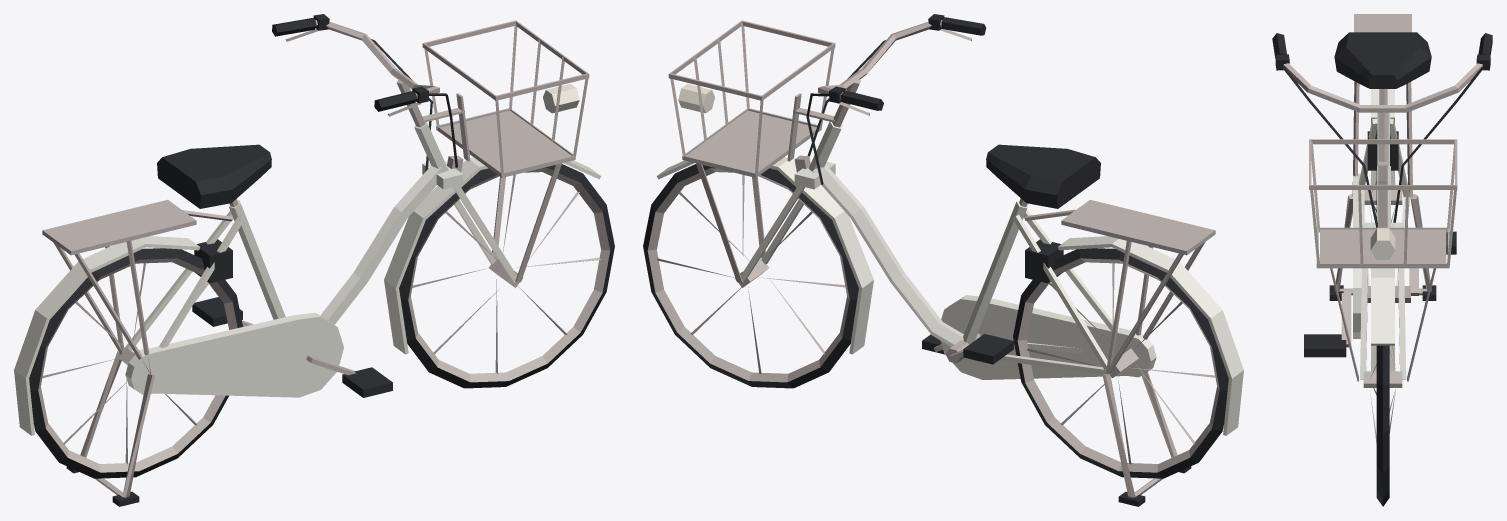
File: SM_Street_Bicycle_Plain_White_01.gltf
3 renders of one model, left to right at view 1: azimuth 30°, elevation 25°; view 2: azimuth 150°, elevation 25°; view 3: azimuth 270°, elevation 25°, orthographic.
Parts seen in each view (by area): view 1: SM_Street_Bicycle_Plain_White_01; view 2: SM_Street_Bicycle_Plain_White_01; view 3: SM_Street_Bicycle_Plain_White_01.
Boxes of the visible parts, box(x1,y1,x2,y2) form: SM_Street_Bicycle_Plain_White_01: box(14, 14, 614, 506); SM_Street_Bicycle_Plain_White_01: box(643, 14, 1243, 506); SM_Street_Bicycle_Plain_White_01: box(1272, 14, 1492, 506).
Size of the model in its own units: 1.8 by 1.07 by 0.5707.
Materials: 1 (1 with a texture image).
